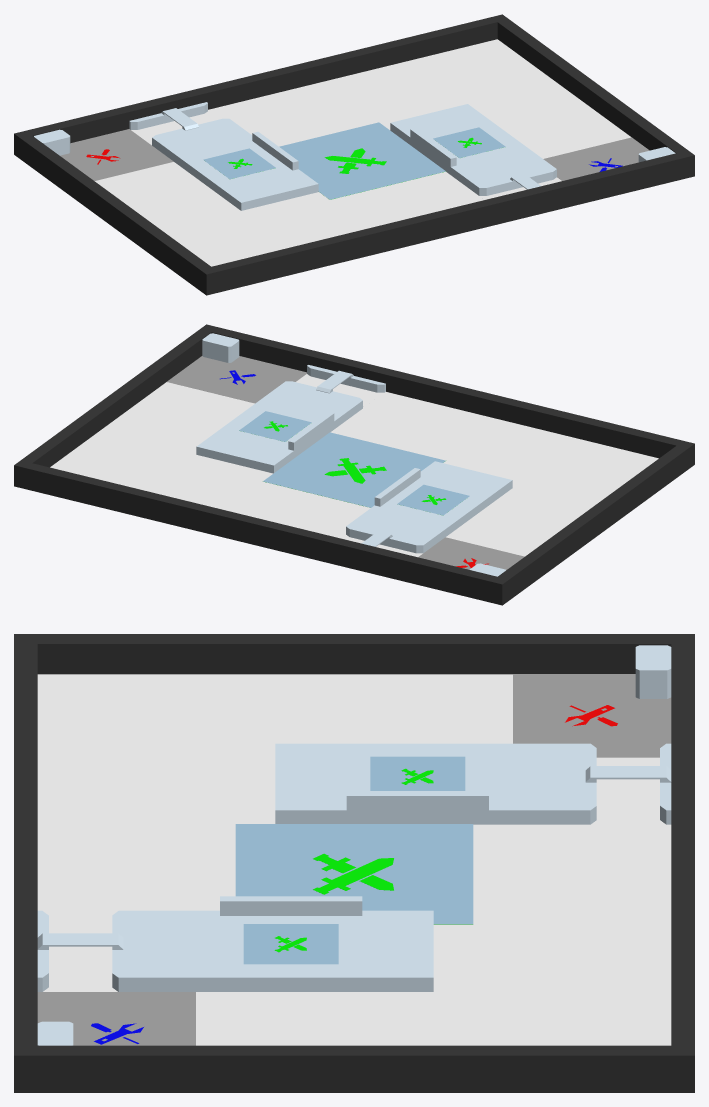
File: step_native.dae
3 views of the same model, one above another, from view 1: azimuth 30°, elevation 25°; view 2: azimuth 150°, elevation 25°; view 3: azimuth 270°, elevation 25° (orthographic). The views are drawn at different scales.
Visible parts, largest first — view 1: object; view 2: object; view 3: object.
Part boxes in pixels (bbox=[...]): object: bbox=[14, 14, 694, 295]; object: bbox=[14, 324, 694, 605]; object: bbox=[14, 634, 694, 1092].
Bounding box in the file's own units: 12.6 × 8.6 × 0.52.
